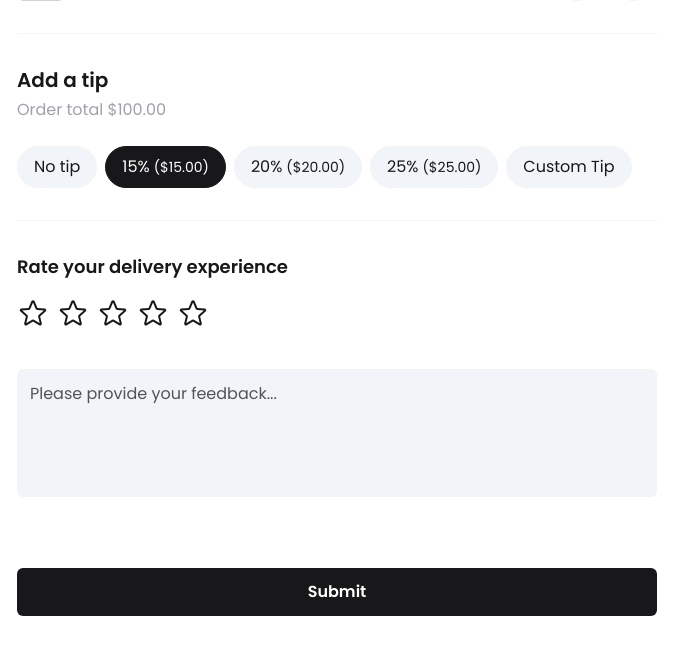
Test case: PackingSupplyFeedbackForm › Form Validation › shows error when submitting without a rating
The width and height of the screenshot is (675, 654).
(page scrolled)
What coordinates should you click on to do the following:
click the button with aria-label "Submit feedback"
I would click on:
 (337, 592)
Its box is x1=17 y1=568 x2=657 y2=616.
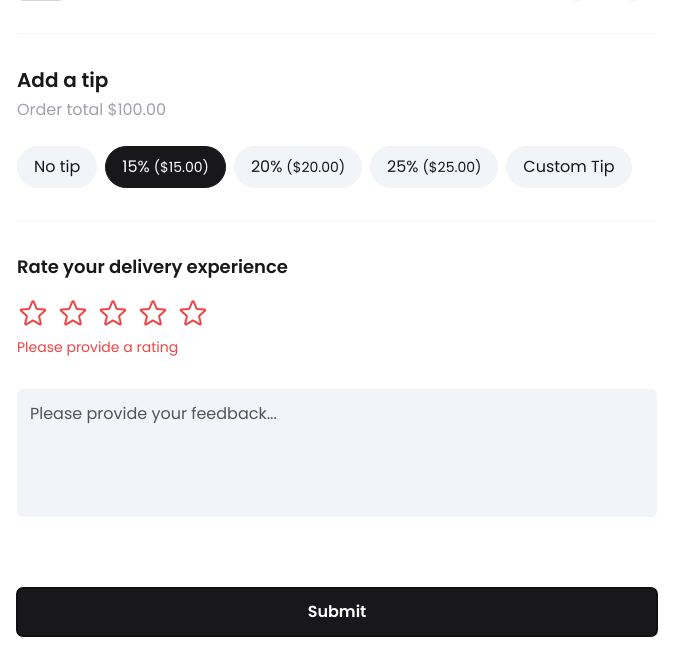
Now the text "Please provide a rating" is shown, box x1=17 y1=337 x2=178 y2=357
